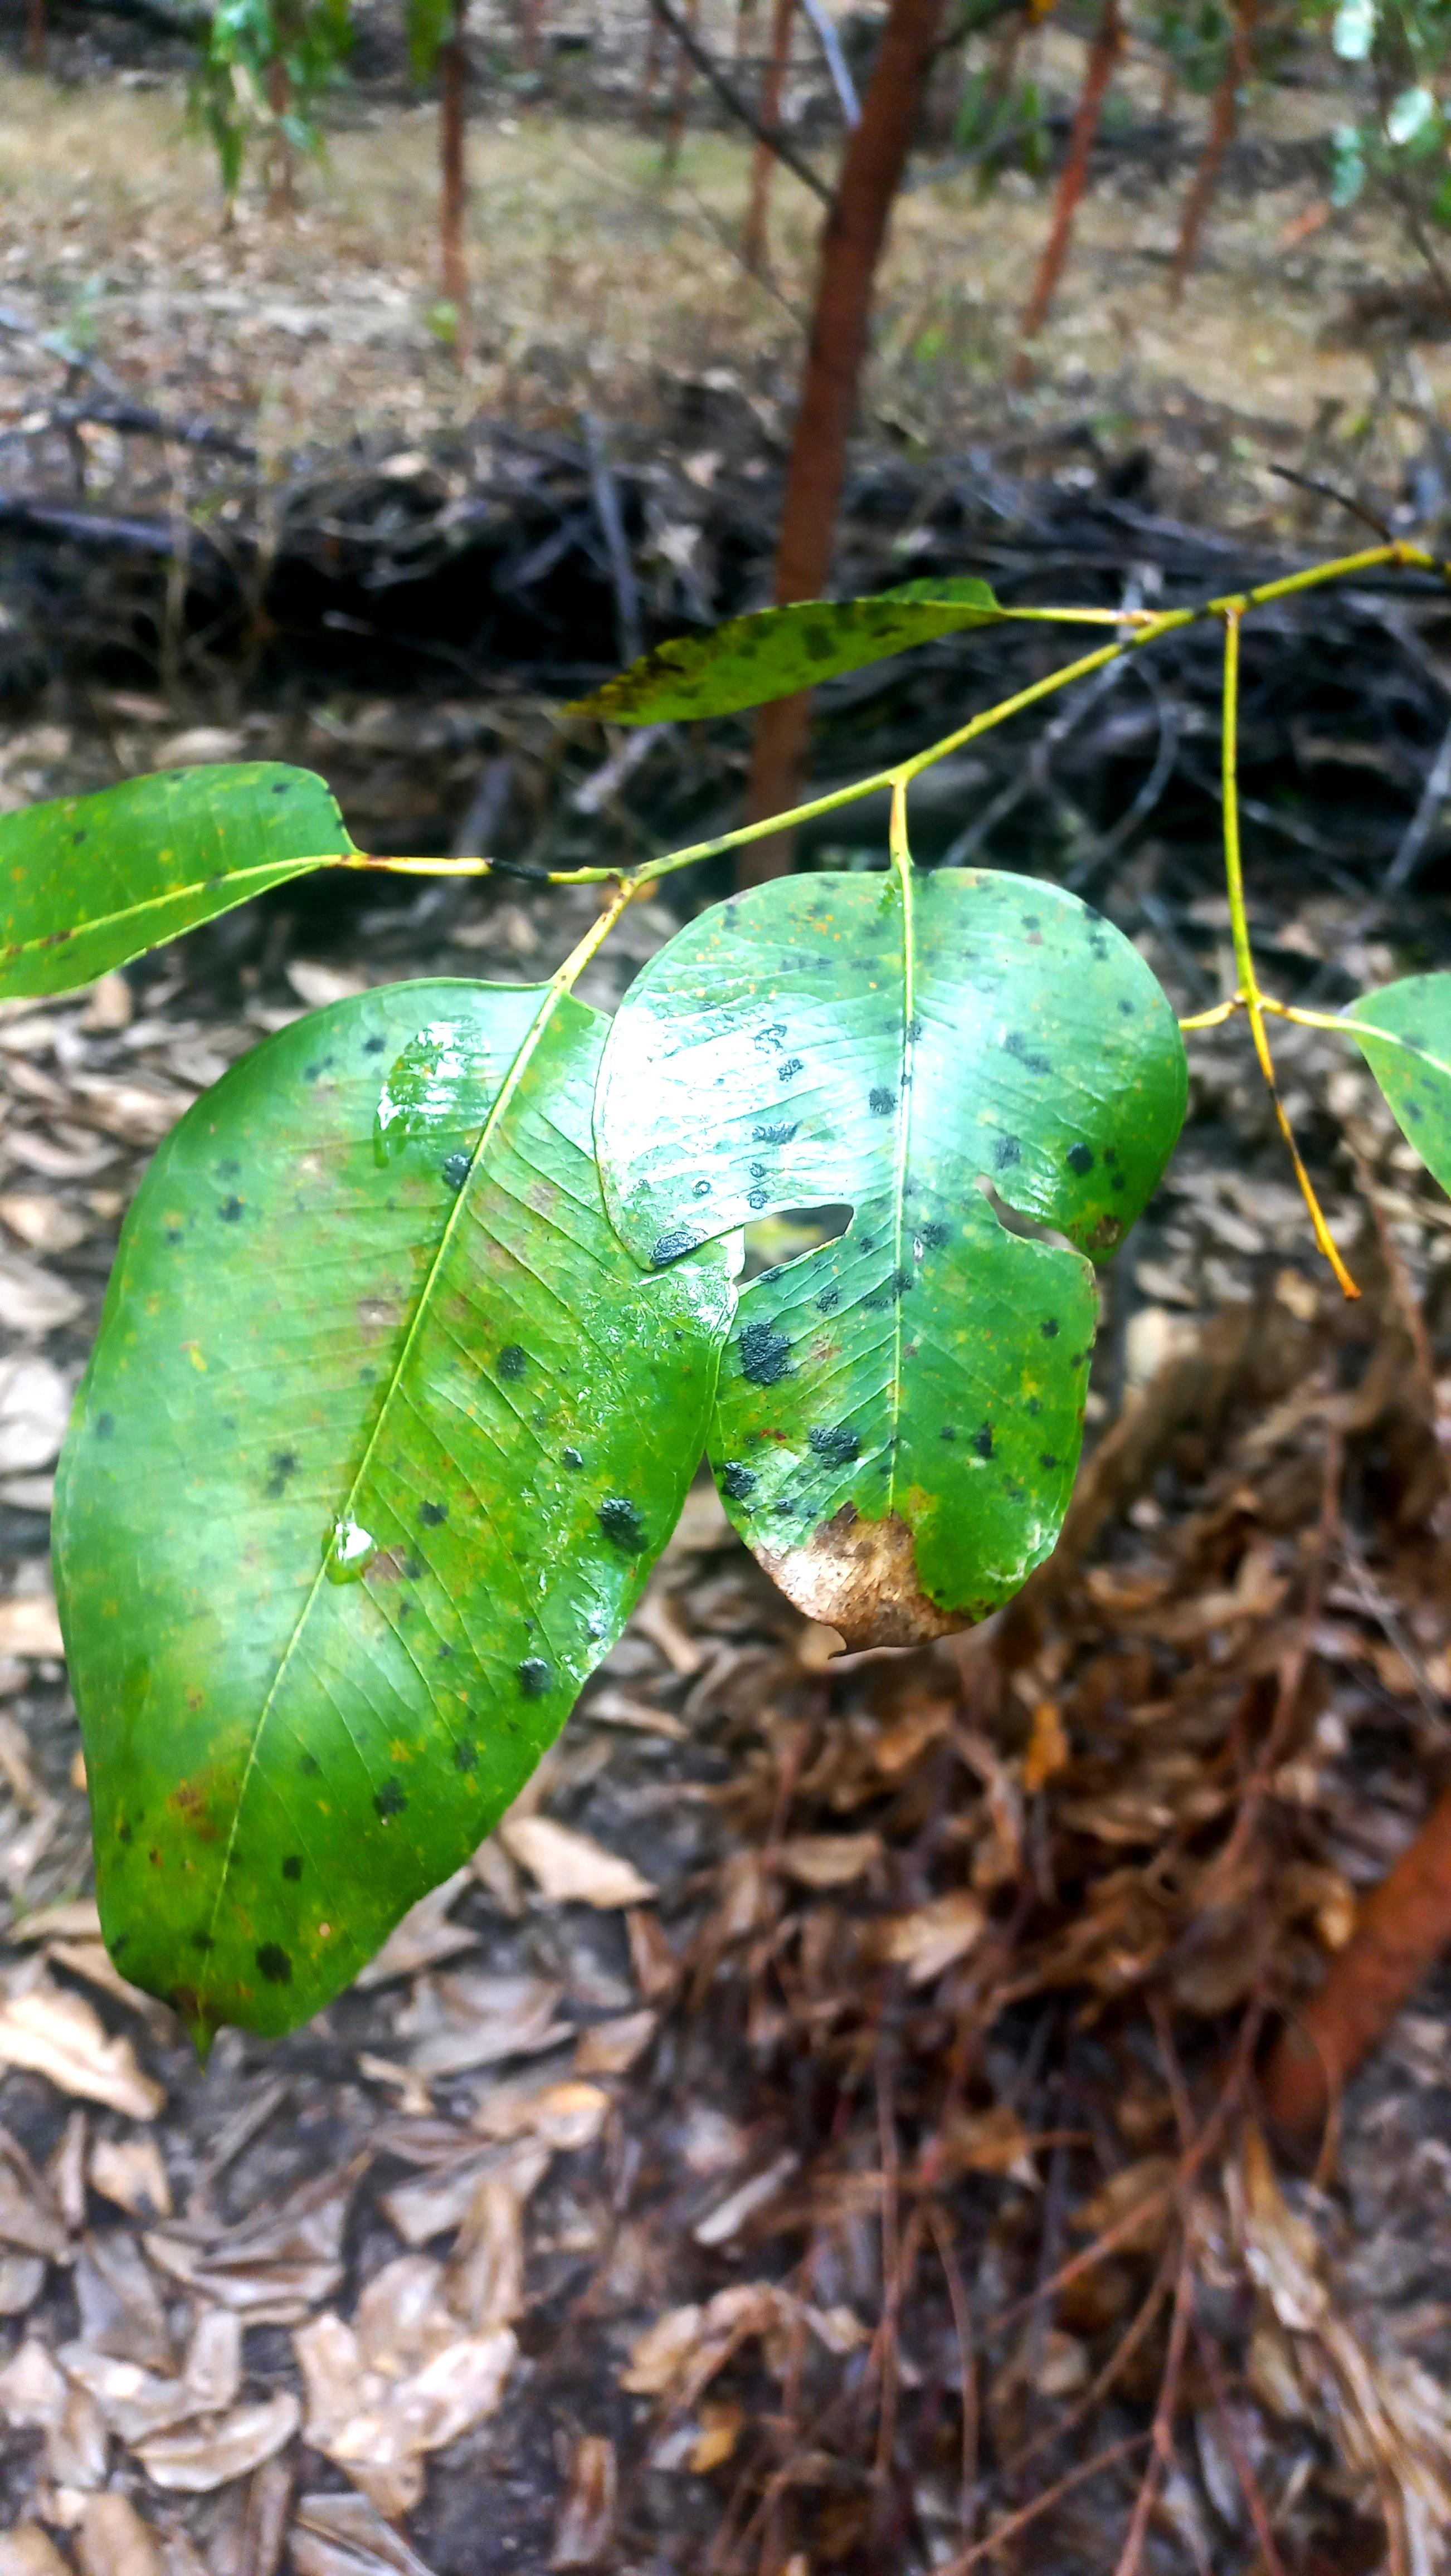Embun Jelaga: (51, 948, 568, 2019), (587, 839, 1203, 1651)
